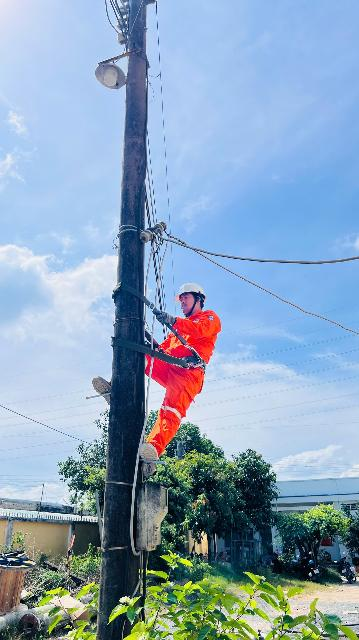gloves: (150, 310, 182, 330)
harness: (160, 332, 224, 381)
helmet: (168, 282, 214, 310)
shoes: (90, 370, 121, 419), (135, 440, 162, 474)
